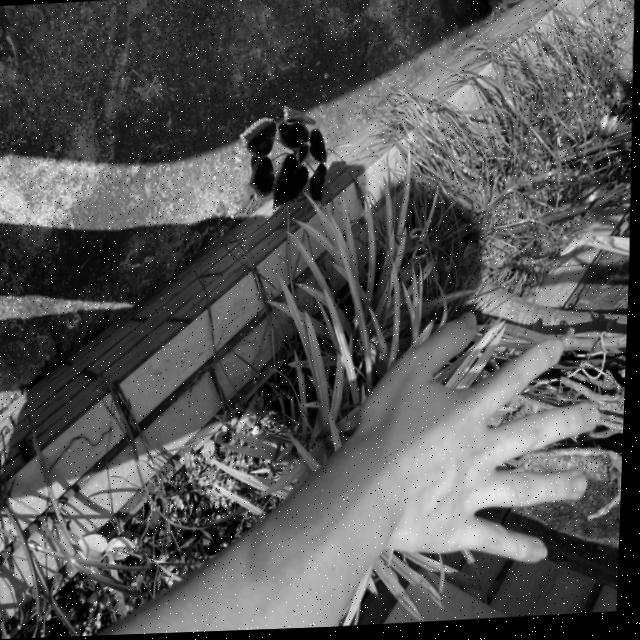hand: (354, 304, 611, 579)
